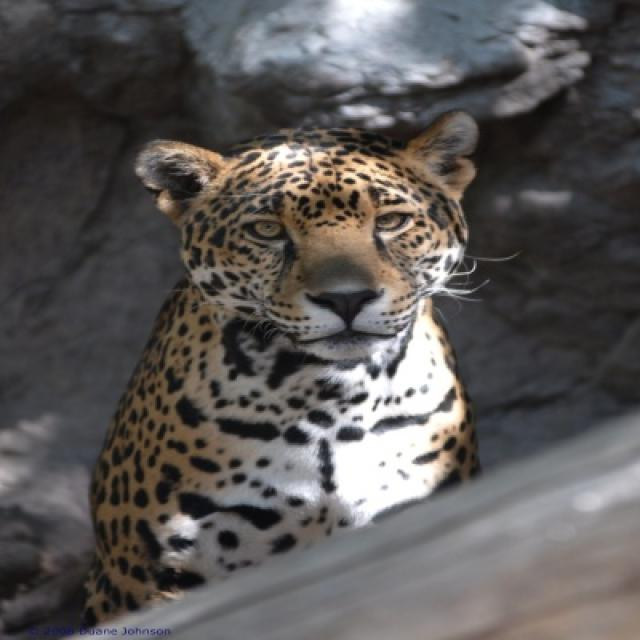Jaguar: (83, 110, 482, 629)
